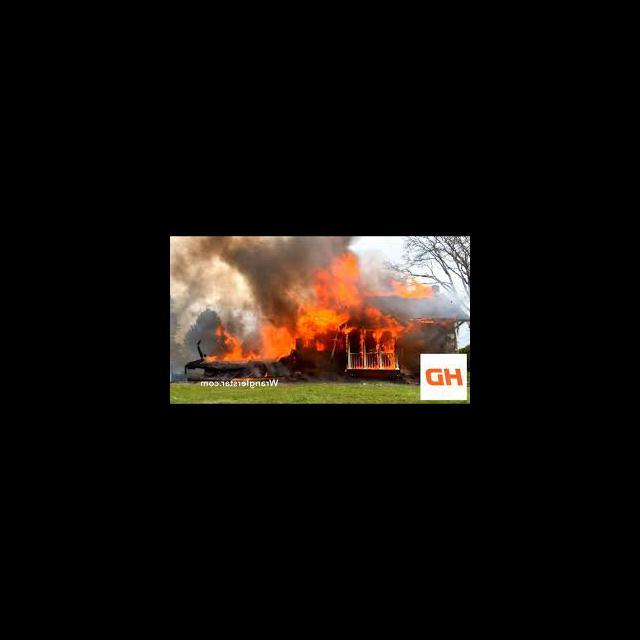Fire: (192, 324, 339, 368), (282, 294, 379, 356), (343, 322, 431, 369), (312, 253, 366, 305), (391, 278, 438, 300)
Smoke: (170, 238, 301, 282), (170, 284, 278, 322), (388, 300, 464, 318)
